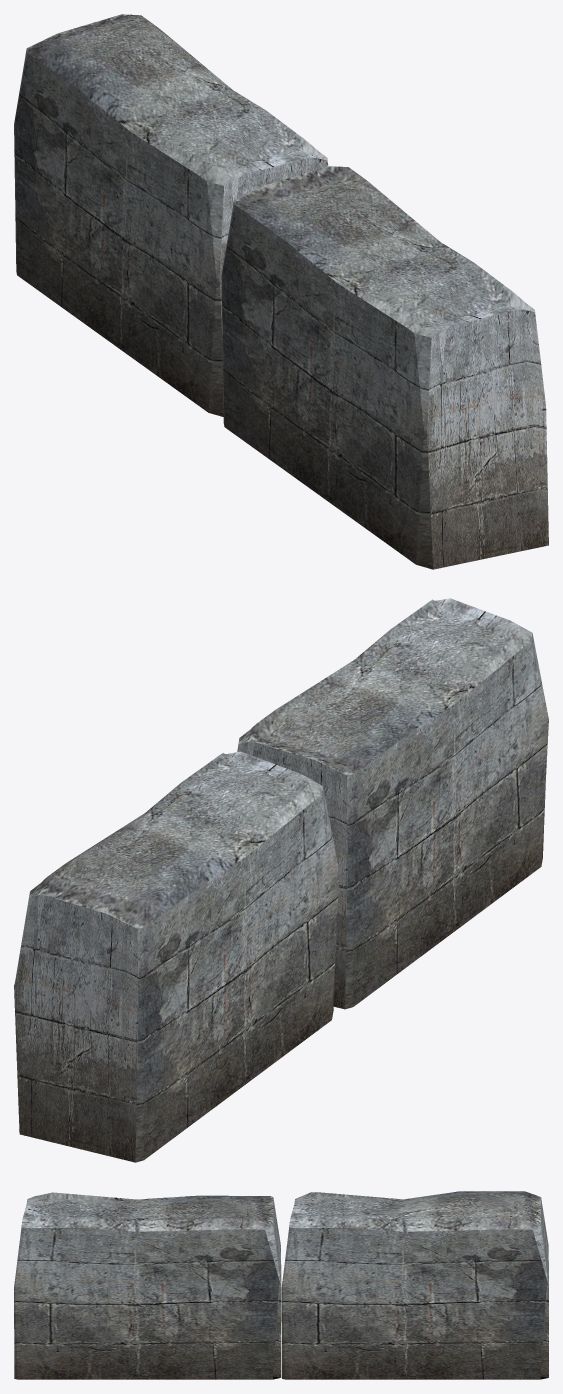
Rendered from brick_stone.FBX.
3 renders of one model, top to bottom at view 1: azimuth 30°, elevation 25°; view 2: azimuth 150°, elevation 25°; view 3: azimuth 270°, elevation 25°, orthographic. The views are drawn at different scales.
Parts seen in each view (by area): view 1: Brick_stone; view 2: Brick_stone; view 3: Brick_stone.
Boxes of the visible parts, box(x1,y1,x2,y2) form: Brick_stone: box(14, 14, 548, 569); Brick_stone: box(14, 598, 548, 1162); Brick_stone: box(14, 1191, 548, 1379).
Bounding box in the file's own units: 0.9169 × 1.75 × 5.3.
Materials: 1 (1 with a texture image).
